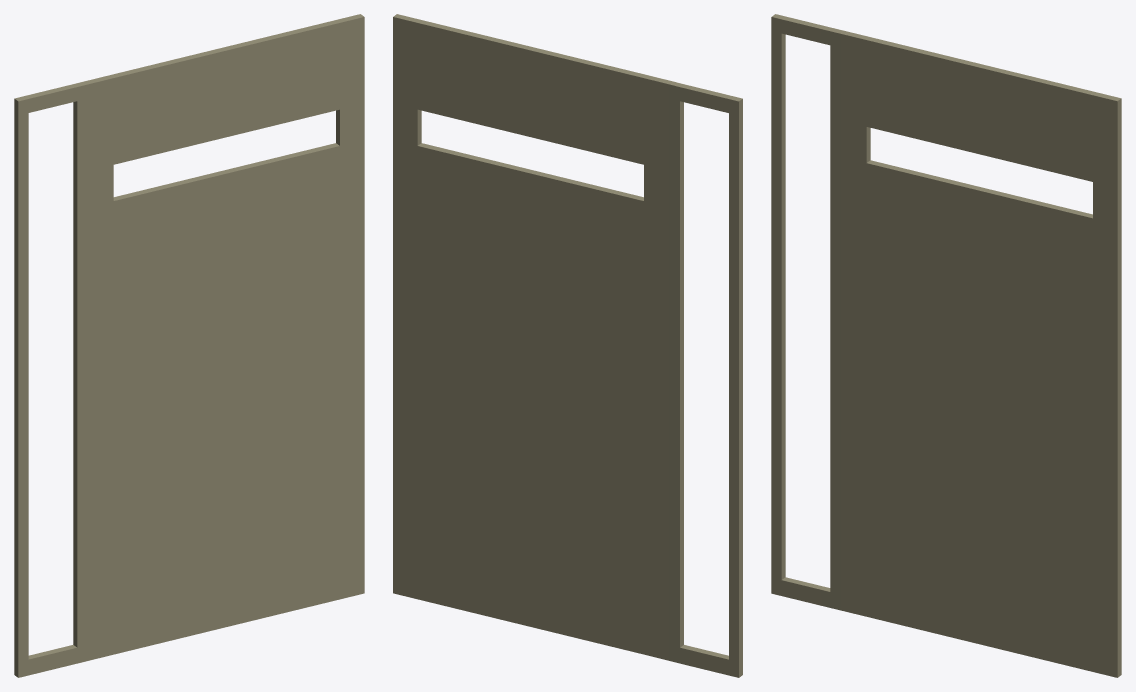
File: Door_Class.fbx
The picture shows the model from 3 angles, left to right: view 1: azimuth 30°, elevation 25°; view 2: azimuth 150°, elevation 25°; view 3: azimuth 330°, elevation 25°; orthographic projection.
Parts seen in each view (by area): view 1: Door_03, Door_01; view 2: Door_03, Door_01; view 3: Door_03, Door_01.
Boxes of the visible parts, box(x1,y1,x2,y2) form: Door_03: box(14, 47, 226, 677); Door_01: box(223, 14, 364, 626); Door_03: box(530, 47, 742, 677); Door_01: box(393, 14, 534, 626); Door_03: box(771, 14, 983, 644); Door_01: box(979, 65, 1121, 677).
Bounding box in the file's own units: 1.26 × 2 × 0.0255.
